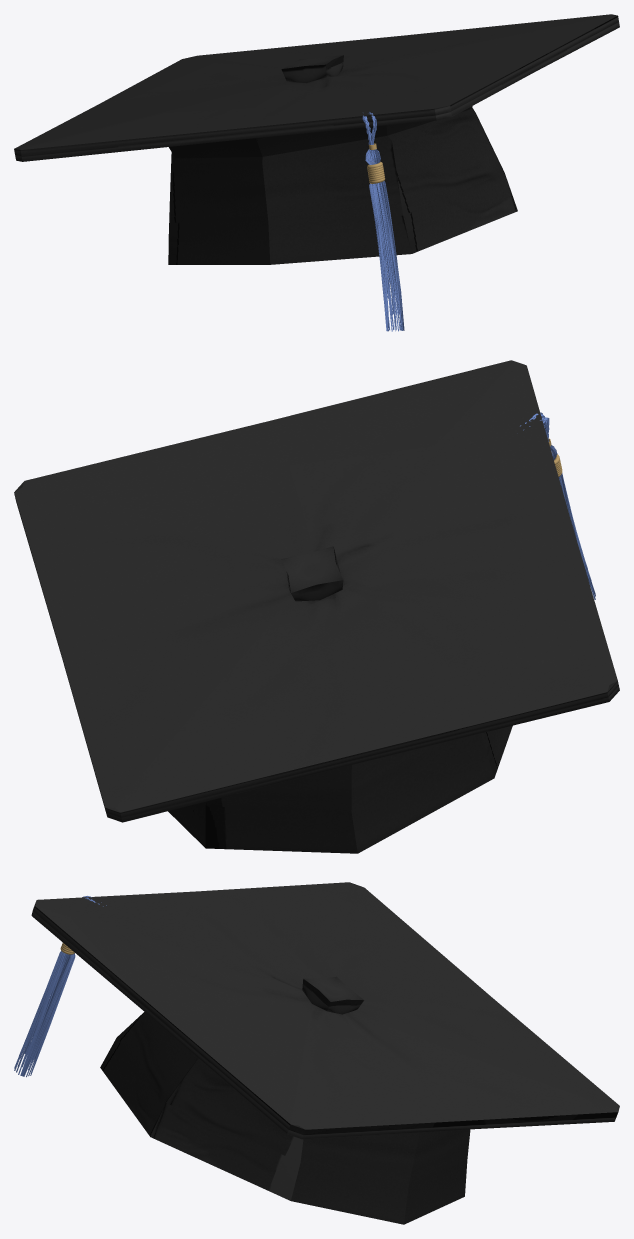
Rendered from hat.glb.
3 views of the same model, one above another, from view 1: azimuth 30°, elevation 25°; view 2: azimuth 150°, elevation 25°; view 3: azimuth 270°, elevation 25° (orthographic). The views are drawn at different scales.
Parts seen in each view (by area): view 1: hat_low, slierten_wires-grof_0; view 2: hat_low, slierten_wires-grof_0; view 3: hat_low, slierten_wires-grof_0.
Part boxes in pixels (x1,y1,x2,y2): hat_low: (14, 14, 619, 264); slierten_wires-grof_0: (362, 111, 404, 331); hat_low: (14, 360, 619, 853); slierten_wires-grof_0: (520, 412, 595, 599); hat_low: (31, 882, 619, 1224); slierten_wires-grof_0: (14, 896, 106, 1077).
Bounding box in the file's own units: 0.3906 × 0.1874 × 0.3831.
3 materials, 1 textured.
